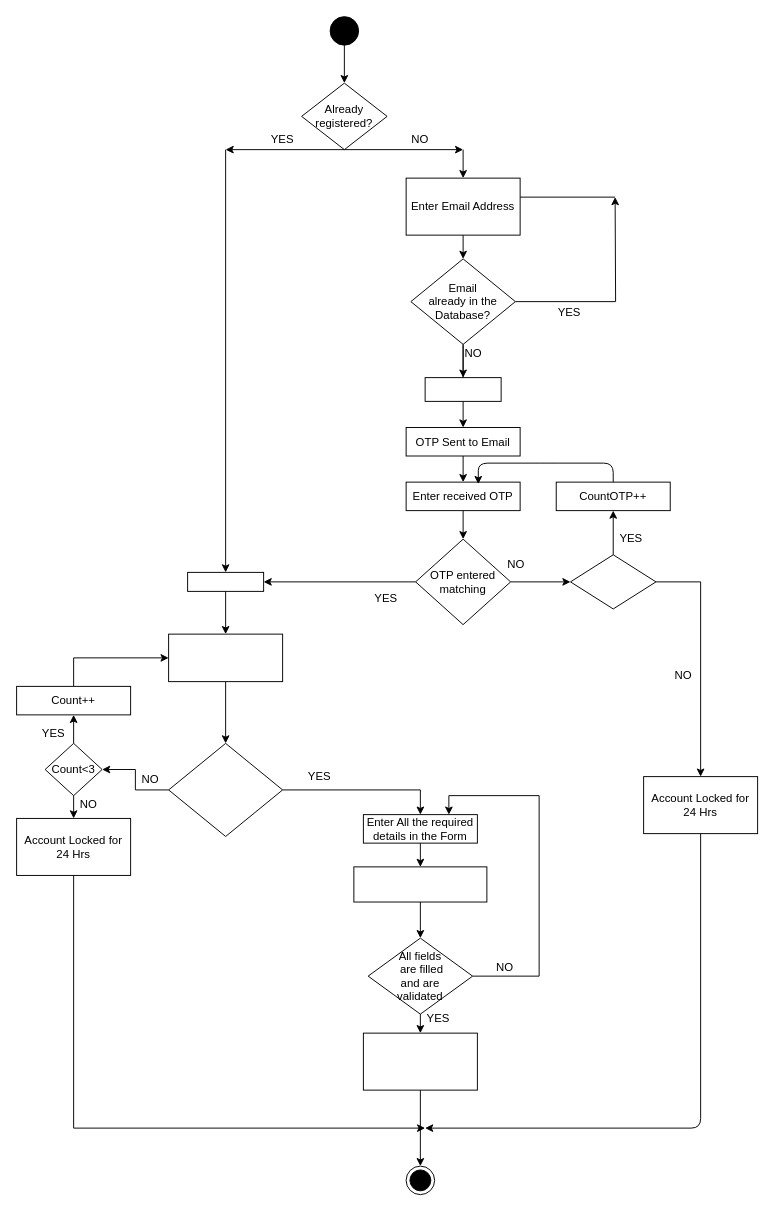
The diagram is 774 pixels wide and 1211 high, and some of its shapes have lost their labels. Here are the shapes that lost their labels. From the top down, the box of each, then its label:
(424, 377, 501, 401): CountOTP=1
(187, 571, 264, 591): Count=1
(570, 554, 656, 609): CountOTP<3
(168, 633, 283, 682): Enter Email and Password
(168, 742, 283, 836): If values matched with the database?
(353, 866, 487, 902): Upload Passport size photo, finger prints photo
(362, 1032, 477, 1090): Display UNIQUE ID Card Generated
